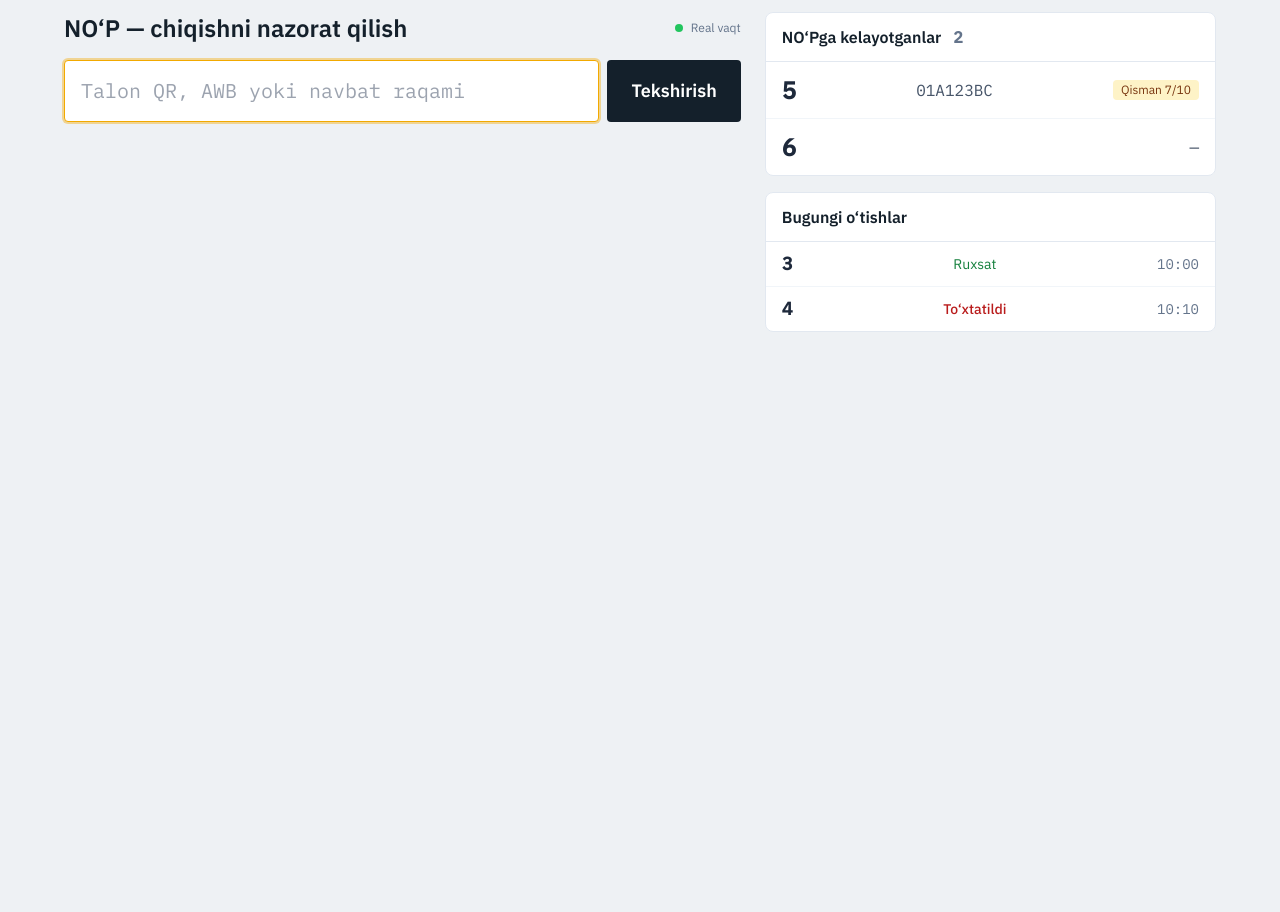
CheckpointPage › shows what the officer compares with the vehicle
In the field named "Talonni skanerlash": (332, 91) [64,60,599,122], type "5"
Then press Enter
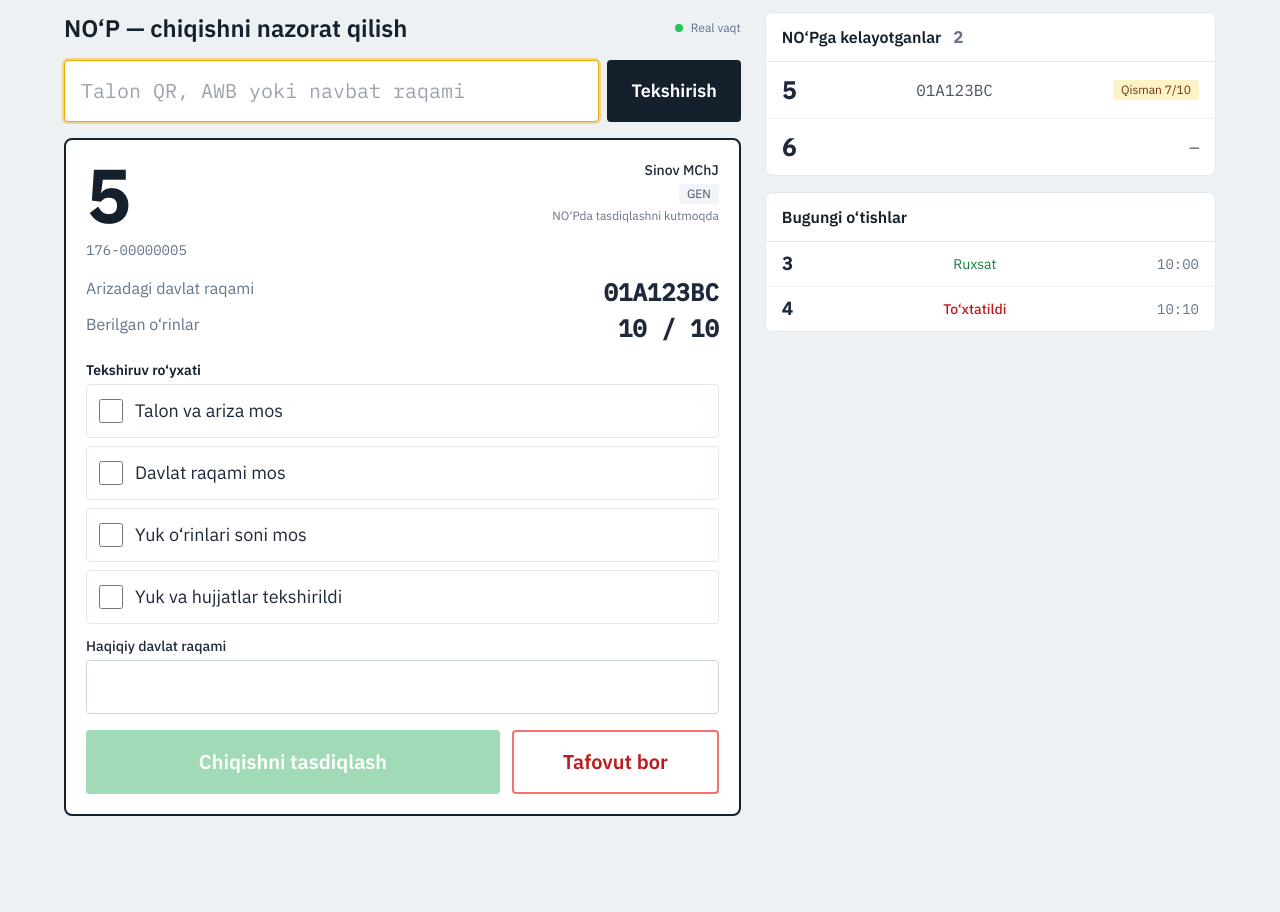
Expected: the text with test id "registered-plate" reads "01A123BC", [604,276,719,308]
Expected: the text with test id "pieces" reads "10 / 10", [618,312,719,344]
Expected: the text "Sinov MChJ" is shown, [644,161,719,179]
